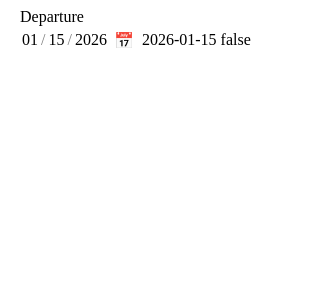
Scenario: DatePicker › picking in the calendar updates the shared value
The width and height of the screenshot is (332, 298).
Click the button named "Open calendar".
click(124, 40)  # box [110,26,138,54]
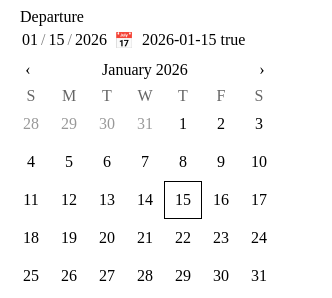
Now the 1st button with class "sve-calendar__day" is shown, box [23,115,39,132]
Click the button with class "sve-calendar__day" showing "20".
click(107, 238)  # box [99,229,115,246]
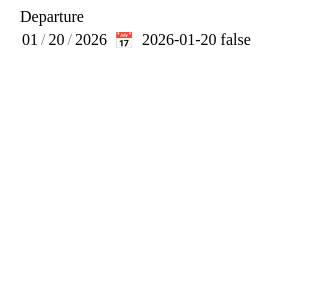
Now the text with test id "value" reads "2026-01-20", box [142,31,217,48]
